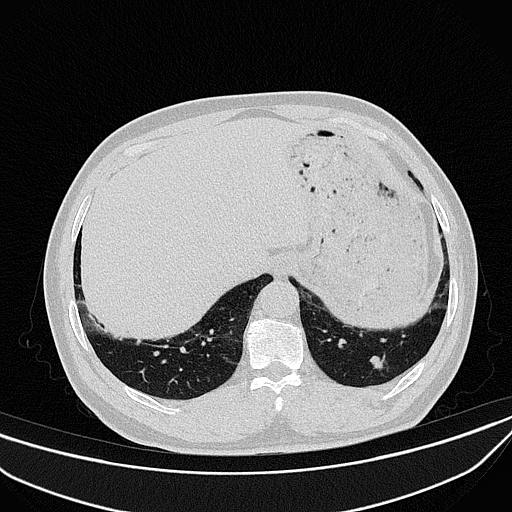nodule: (368, 355, 384, 369)
